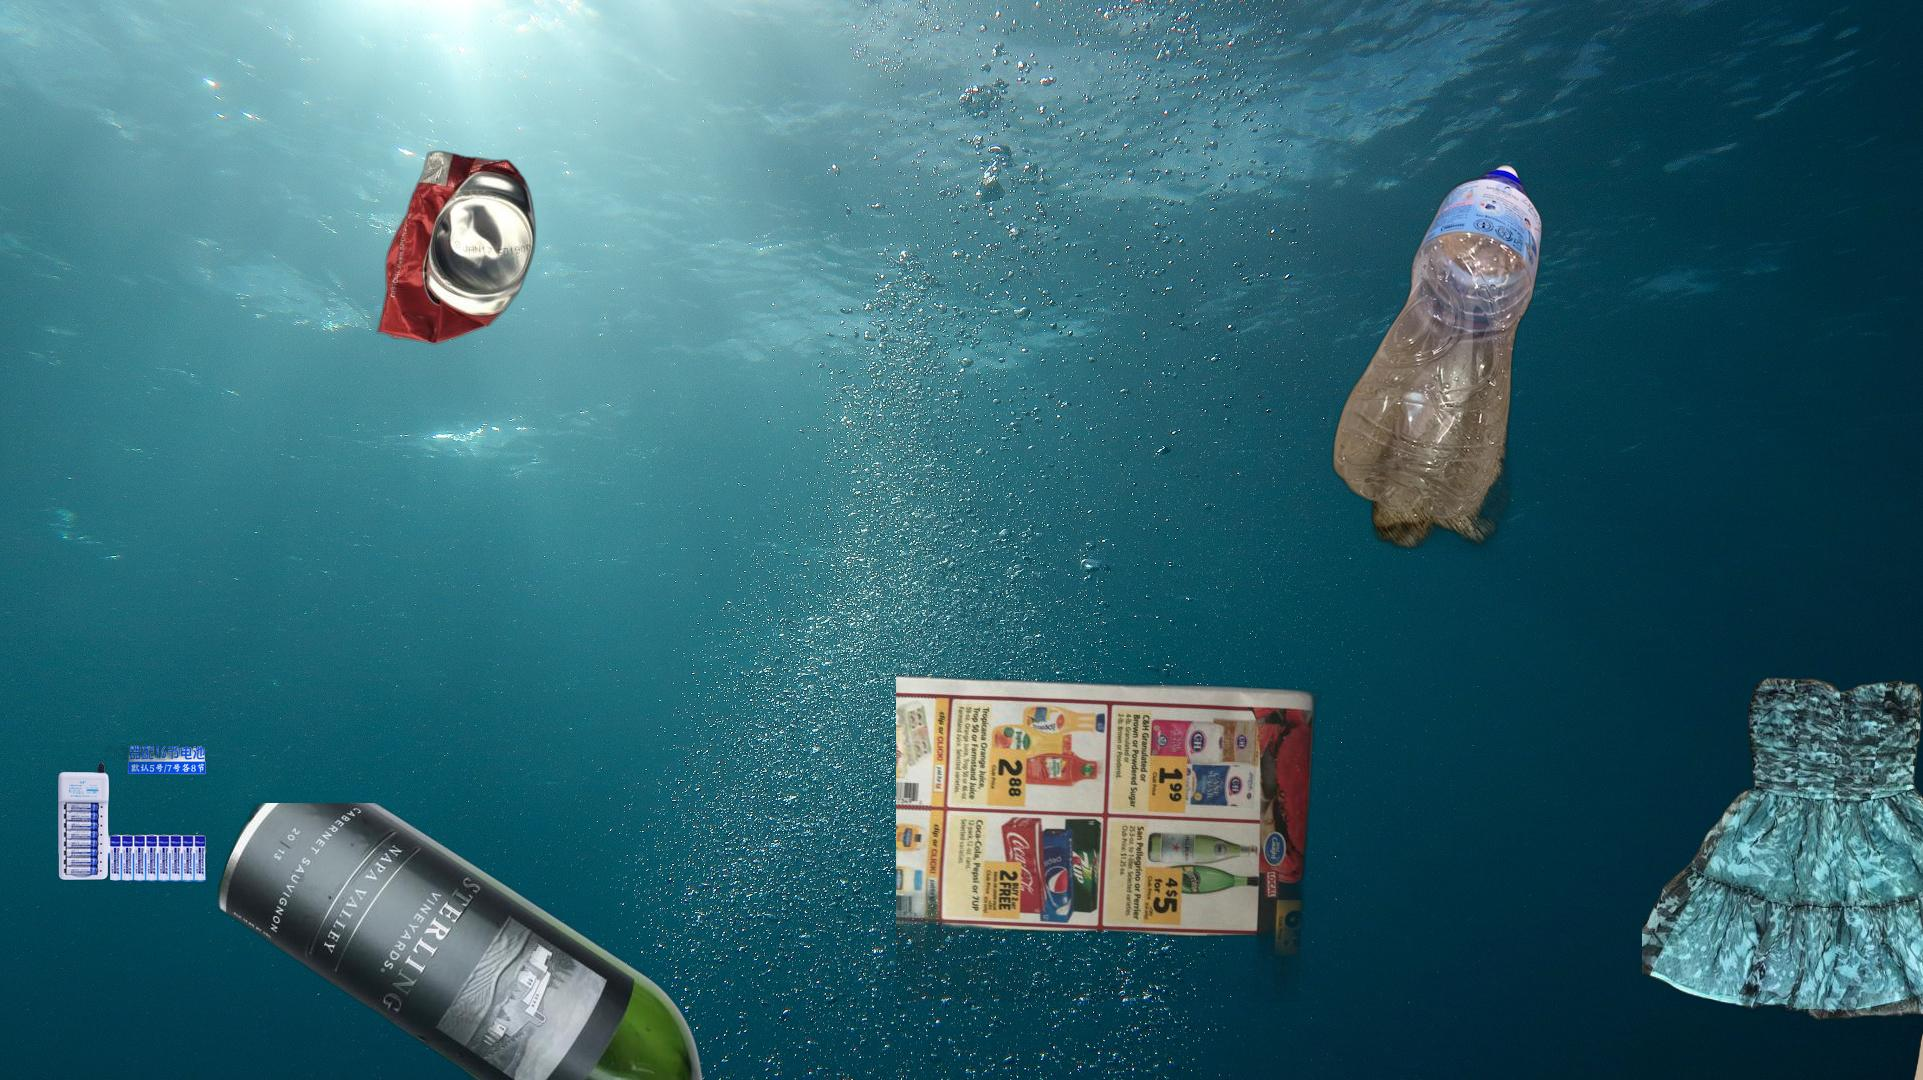battery: (57, 743, 207, 885)
clothes: (1642, 672, 1923, 1025), (1878, 926, 1923, 1080)
glass: (218, 803, 730, 1080)
metal-cans: (372, 147, 539, 349)
paper: (895, 672, 1325, 1002)
penholder: (1090, 750, 1210, 896)
plastic-bottles: (1309, 161, 1545, 590)
